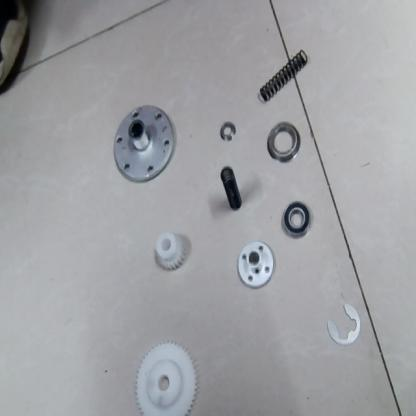FOD: (110, 102, 177, 186), (135, 342, 200, 415), (258, 44, 309, 104), (233, 240, 278, 290), (324, 301, 361, 352), (264, 120, 303, 166), (148, 233, 185, 277), (218, 166, 244, 218), (282, 199, 310, 240), (218, 121, 236, 142)
